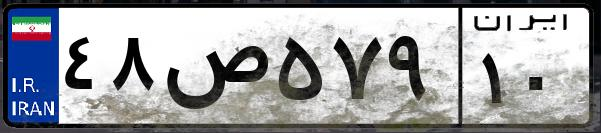0: (525, 38, 570, 115)
1: (475, 38, 525, 113)
4: (57, 26, 110, 100)
5: (270, 28, 330, 110)
7: (330, 28, 385, 110)
8: (110, 28, 158, 98)
9: (385, 28, 445, 110)
ص: (158, 20, 270, 120)
